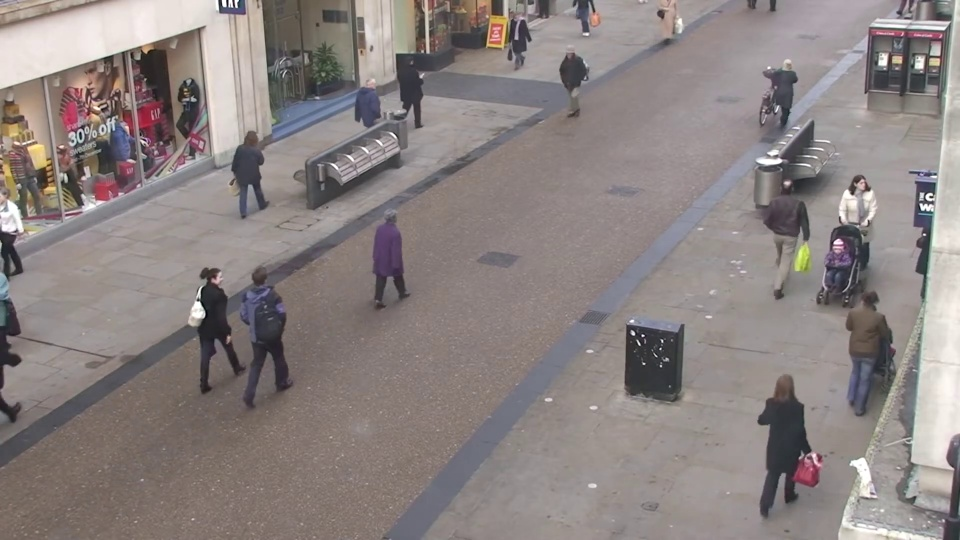pedestrian: (762, 355, 820, 515), (841, 278, 896, 419), (203, 255, 255, 385), (247, 252, 296, 382), (806, 234, 855, 362), (828, 172, 872, 284), (381, 197, 422, 315), (767, 167, 808, 278), (242, 125, 279, 222), (361, 74, 392, 157), (771, 53, 802, 133), (400, 48, 428, 124), (555, 47, 581, 123), (505, 8, 528, 74)
